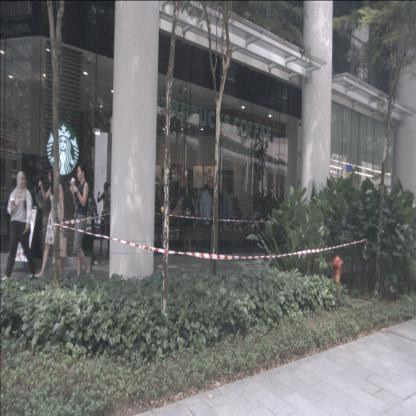human-pedestrian-adult: (1, 169, 36, 282), (33, 167, 67, 279), (69, 163, 91, 283), (181, 184, 198, 263), (199, 184, 214, 261), (223, 185, 235, 259), (230, 198, 245, 248), (215, 189, 226, 257), (170, 186, 180, 247)
